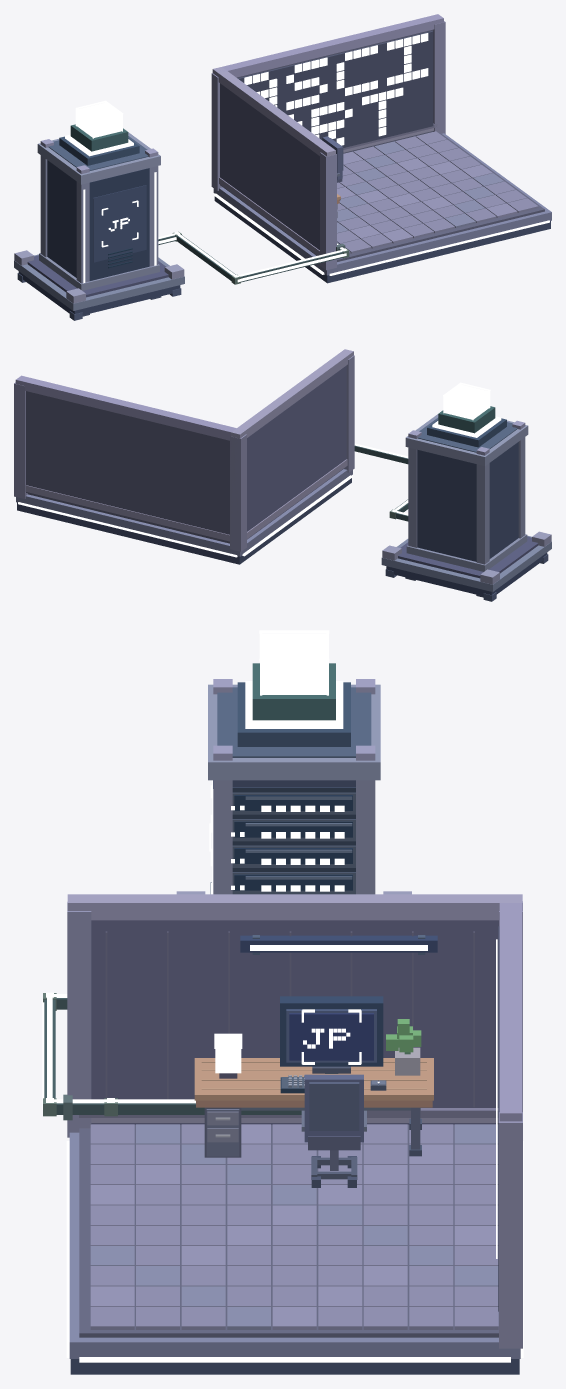
File: room-server.44b95fcd4e41.glb
3 views of the same model, one above another, from view 1: azimuth 30°, elevation 25°; view 2: azimuth 150°, elevation 25°; view 3: azimuth 270°, elevation 25° (orthographic). The views are drawn at different scales.
Parts seen in each view (by area): view 1: Server rack + office room / isometric; view 2: Server rack + office room / isometric; view 3: Server rack + office room / isometric.
Boxes of the visible parts, <box> form: Server rack + office room / isometric: <box>14,14,551,320</box>; Server rack + office room / isometric: <box>14,349,551,601</box>; Server rack + office room / isometric: <box>42,630,523,1374</box>.
Size of the model in its own units: 15.66 by 5.98 by 7.22.
